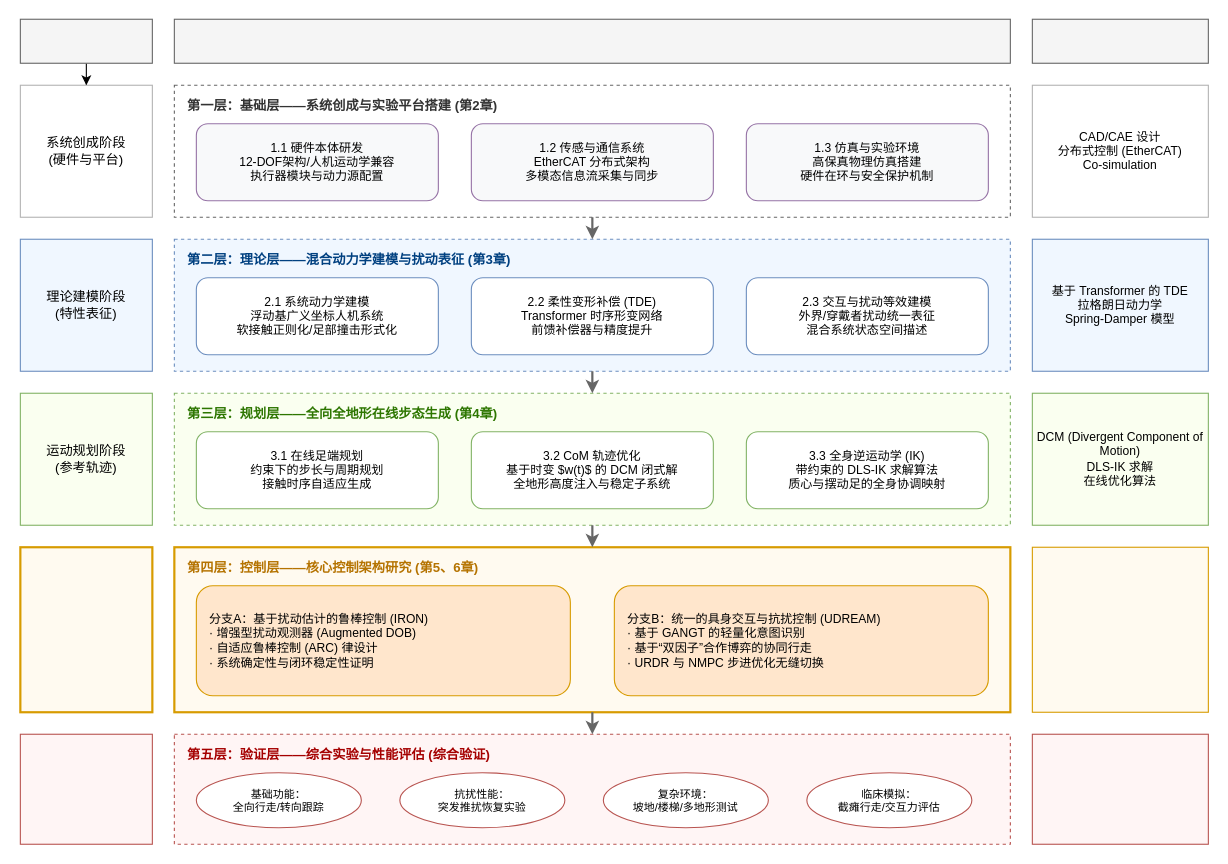
Some shapes in this 1228 by 864 pixel diagram are drawn without their labels. Each missing label, with the box of its shape:
IRON 框架 UDREAM 框架 GANGT 网络 Game Theory: (1031, 546, 1208, 712)
关键方法/手段: (1031, 18, 1208, 63)
定量评价指标 对比实验分析 临床适应性评估: (1031, 733, 1208, 844)
实验验证阶段 (成果产出): (19, 733, 152, 844)
控制算法研究 (核心创新): (19, 546, 153, 713)
核心研究内容 (Research Contents): (173, 18, 1010, 63)
研究阶段与目标: (19, 18, 152, 63)
